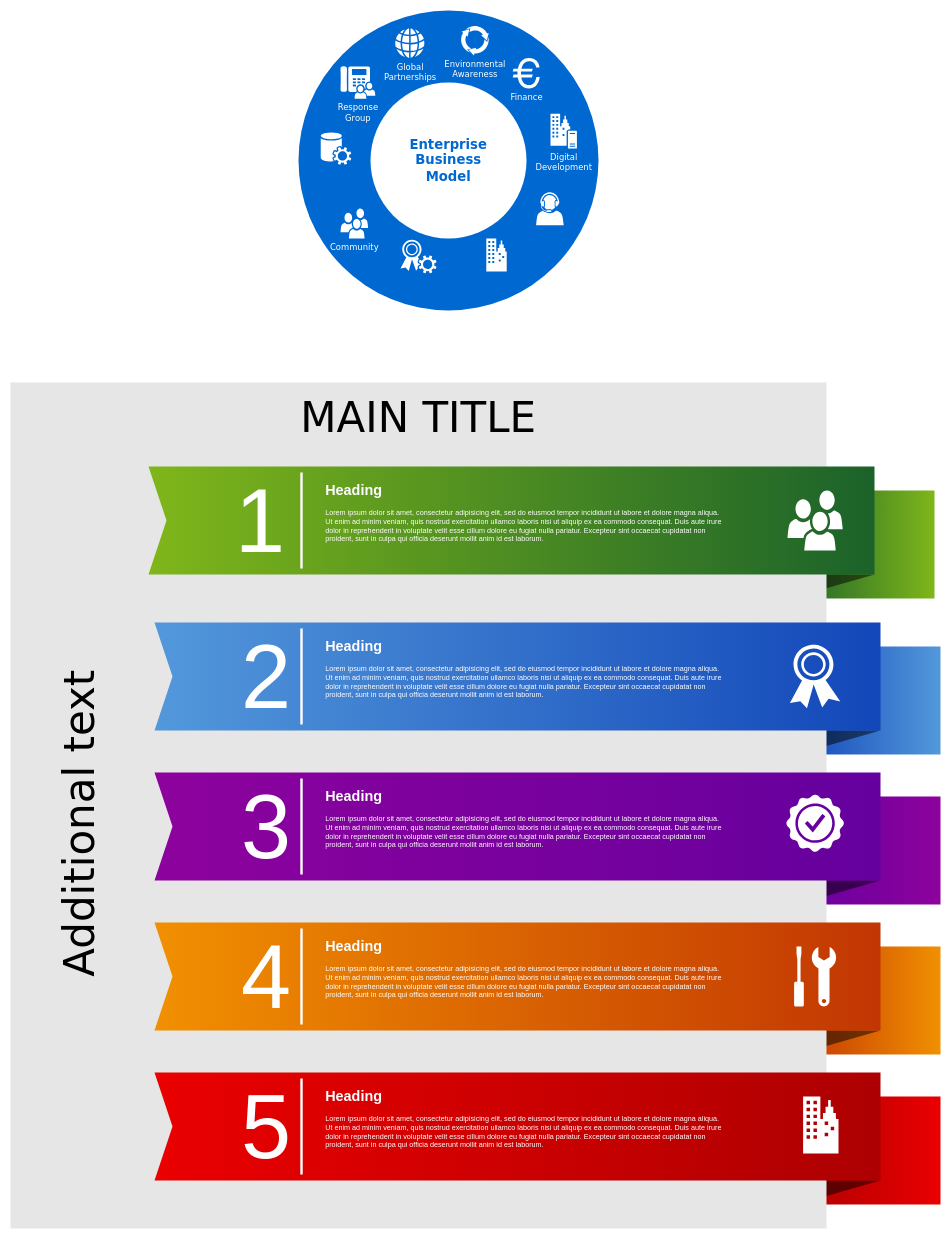
This 950x1238 diagram has some shape labels left out. Each missing label, with the centre of its shape:
Central Management Service: the point at 335,148
Customer Service: the point at 549,208
Infrastructure: the point at 496,254
Technology Certificates: the point at 418,256
